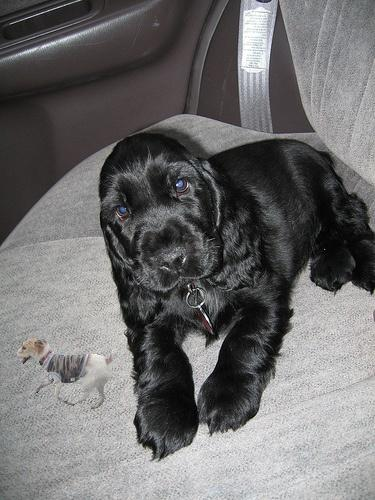tampered: (18, 339, 116, 409)
